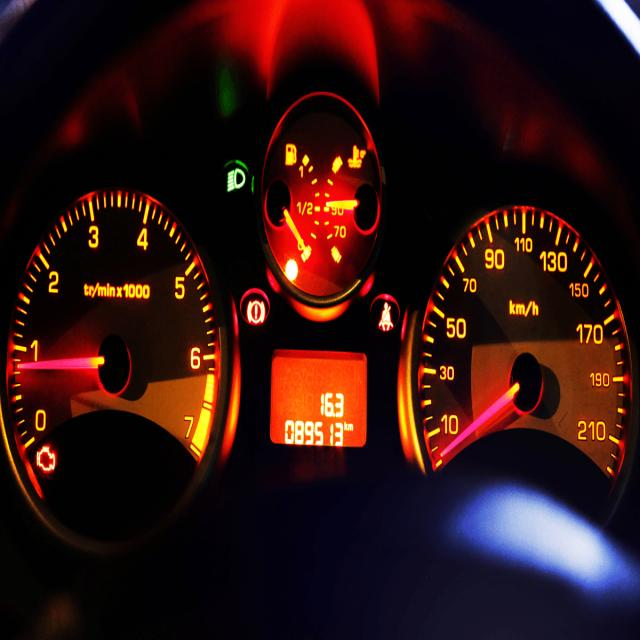kontrolka: (238, 293, 272, 331), (221, 161, 248, 196), (34, 442, 60, 475)
